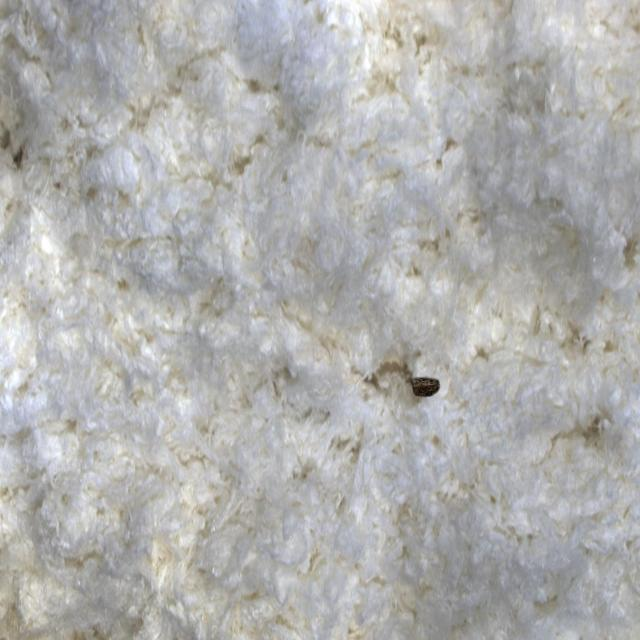dust: (389, 328, 466, 435)
